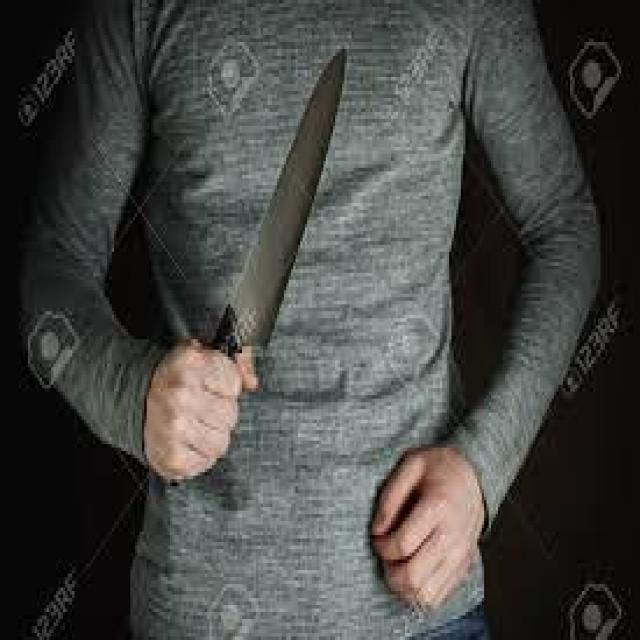faca: (137, 14, 368, 472)
